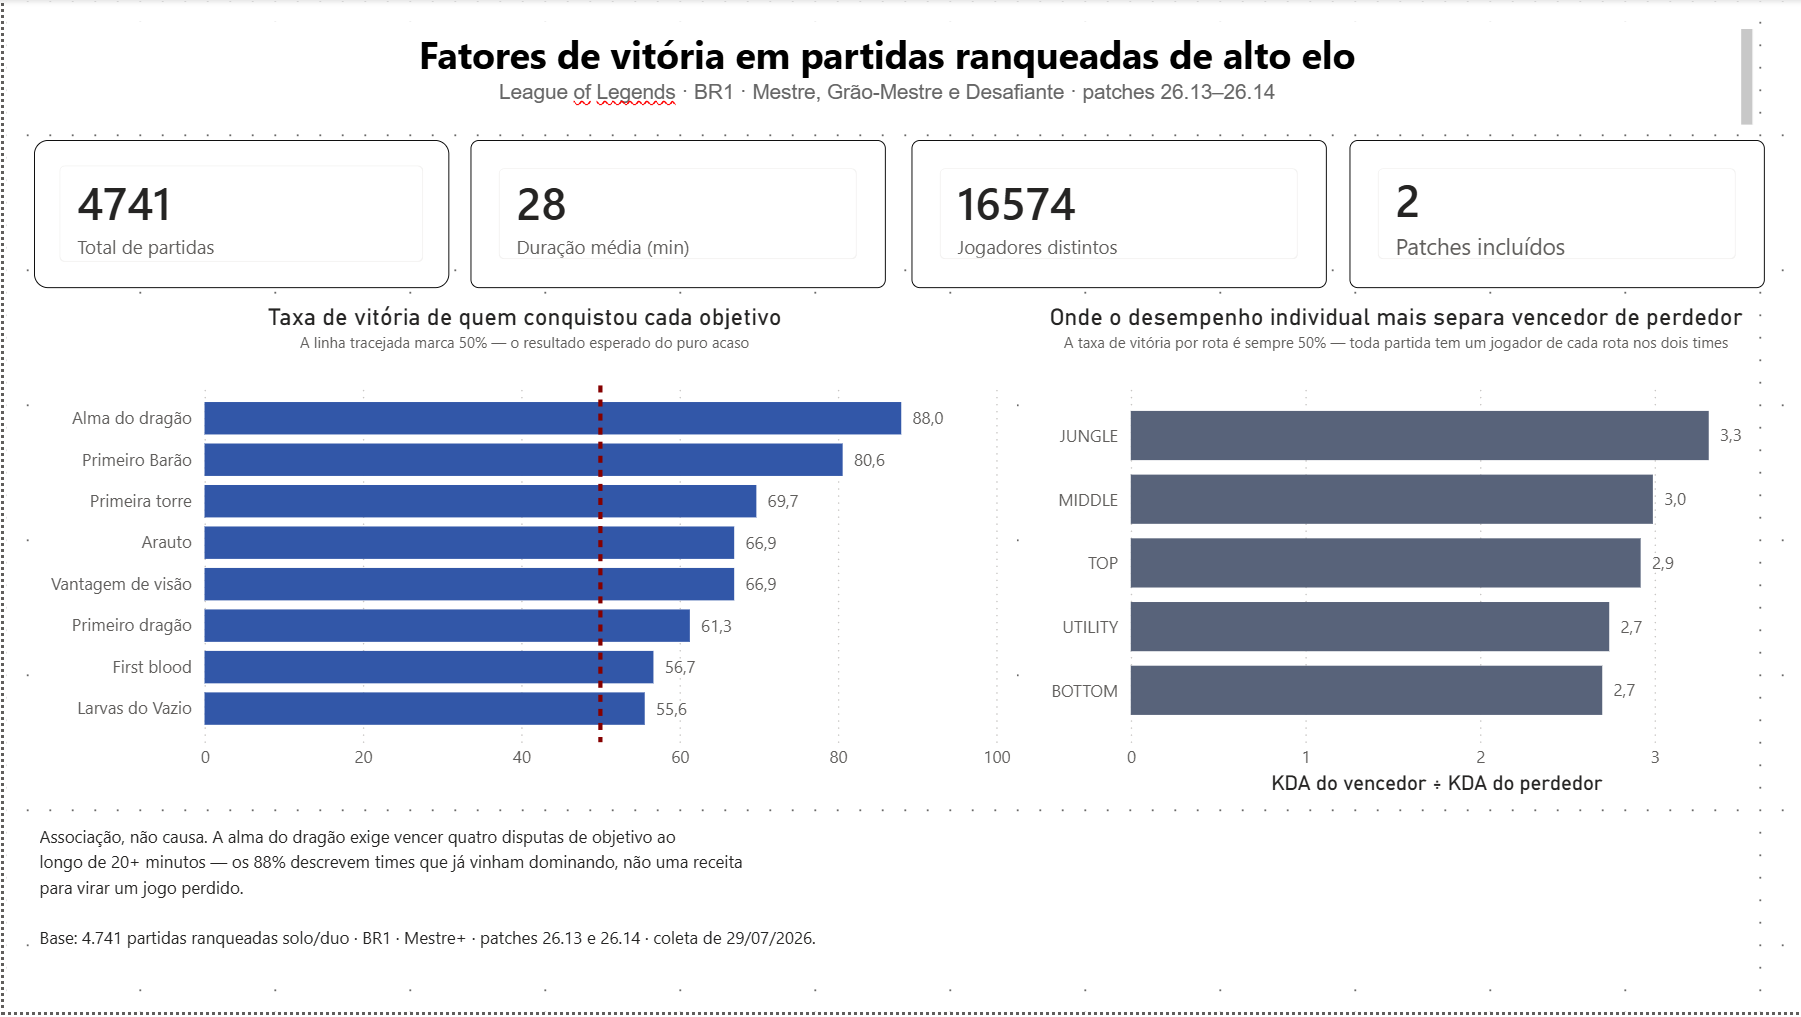

This screenshot's page, from the dashboard's own definition file:
{"tool":"powerbi","page":{"name":"Visão geral","canvas":[1280,720],"ordinal":0},"visuals":[{"type":"clusteredBarChart","title":"Taxa de vitória de quem conquistou cada objetivo","fields":{"Category":["public vw_ranking_fatores.fator"],"Y":["Avg(public vw_ranking_fatores.taxa_vitoria)"]},"box":[20,215,700,355],"z":0},{"type":"cardVisual","fields":{"Data":["Avg(public vw_kpis.total_partidas)"]},"box":[20.8,100,295,105],"z":1000},{"type":"cardVisual","fields":{"Data":["Avg(public vw_kpis.jogadores_distintos)"]},"box":[645.2,100,295,105],"z":2000},{"type":"cardVisual","fields":{"Data":["Avg(public vw_kpis.duracao_media_min)"]},"box":[332,100,295,105],"z":3000},{"type":"cardVisual","fields":{"Data":["Avg(public vw_kpis.patches)"]},"box":[957,100,295,105],"z":4000},{"type":"textbox","box":[20,580,1225,120],"z":5000},{"type":"textbox","box":[16,16,1232,80],"z":6000},{"type":"clusteredBarChart","title":"Onde o desempenho individual mais separa vencedor de perdedor","fields":{"Category":["public vw_alavancagem_rota.rota"],"Y":["Avg(public vw_alavancagem_rota.razao_kda)"]},"box":[735,215,510,355],"z":7000}]}

Visuals, with their boxes in screenshot pixels (x1, y1, x2, y2), scaled from the page's 1280x720 canvas onto the 1801x1017 screenshot:
"Taxa de vitória de quem conquistou cada objetivo" clusteredBarChart: <region>28, 304, 1013, 805</region>
cardVisual - Avg(public vw_kpis.total_partidas): <region>29, 141, 444, 290</region>
cardVisual - Avg(public vw_kpis.jogadores_distintos): <region>908, 141, 1323, 290</region>
cardVisual - Avg(public vw_kpis.duracao_media_min): <region>467, 141, 882, 290</region>
cardVisual - Avg(public vw_kpis.patches): <region>1347, 141, 1762, 290</region>
textbox: <region>28, 819, 1752, 989</region>
textbox: <region>23, 23, 1756, 136</region>
"Onde o desempenho individual mais separa vencedor de perdedor" clusteredBarChart: <region>1034, 304, 1752, 805</region>
